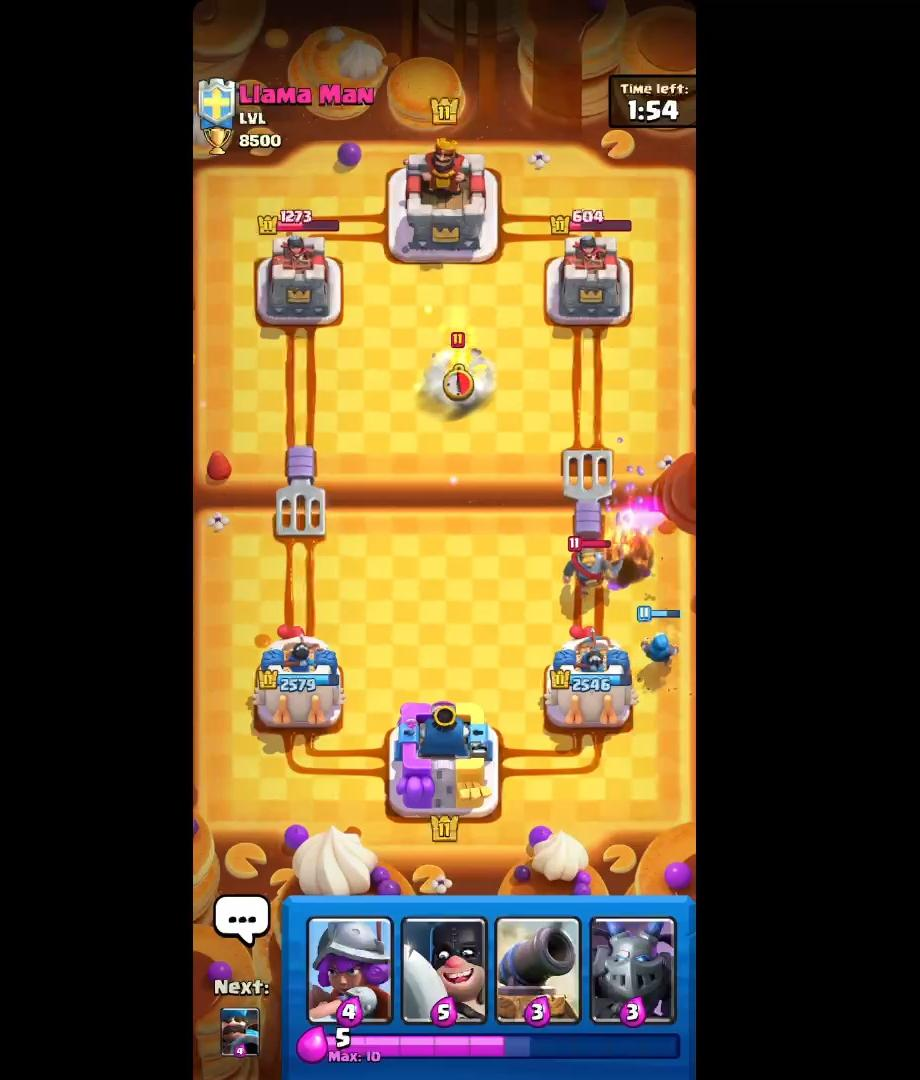Knight: (563, 535, 627, 599)
